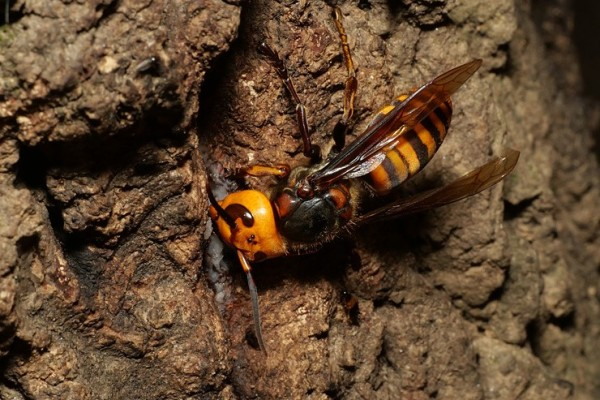asian_giant_hornet: (201, 57, 489, 278)
